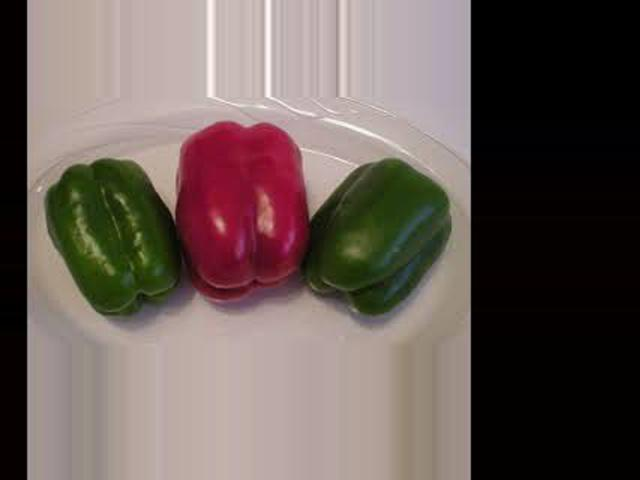bell_pepper: (300, 138, 458, 330)
